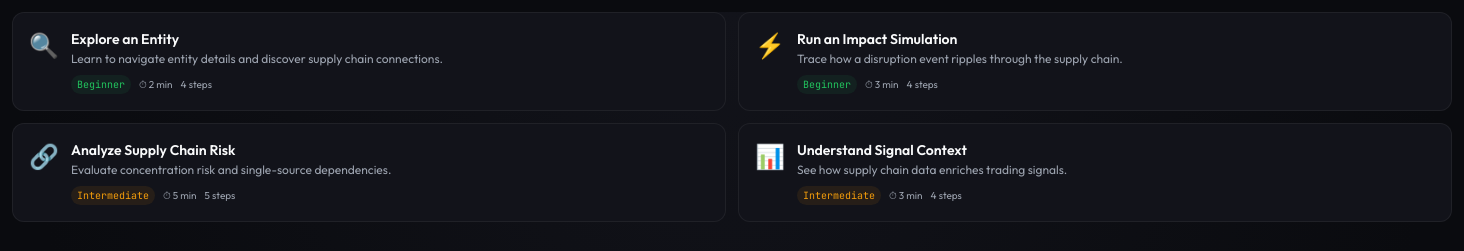
Test case: GuidedScenario › closes walkthrough on close button
What coordinates should you click on to do the following:
click the heading "Explore an Entity"
I would click on:
 (125, 39)
Its box is top-left (71, 30), bottom-right (179, 48).
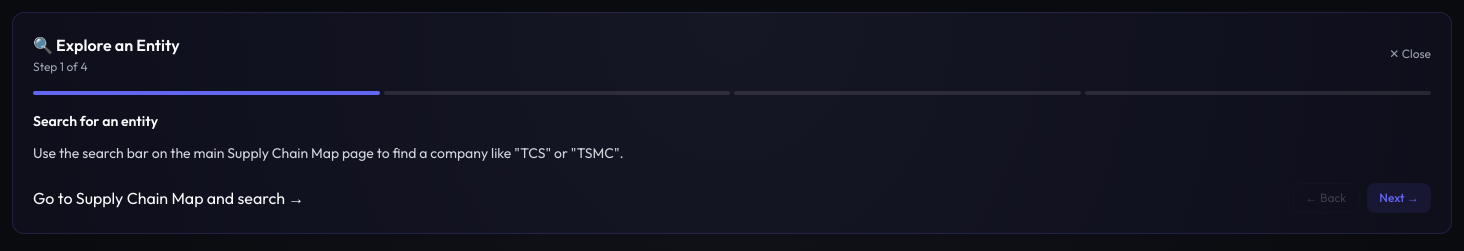
What coordinates should you click on to do the following:
click the button "✕ Close"
I would click on:
 (1410, 54)
Its box is top-left (1389, 46), bottom-right (1431, 62).
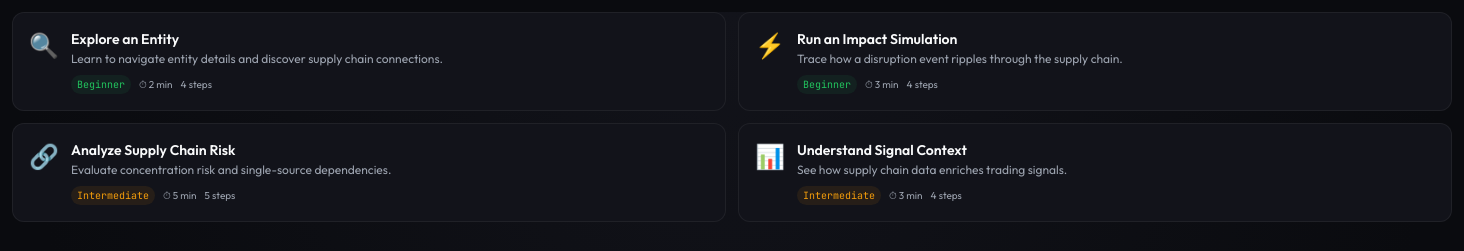
Check: the text "Step 1 of 4" is gone
